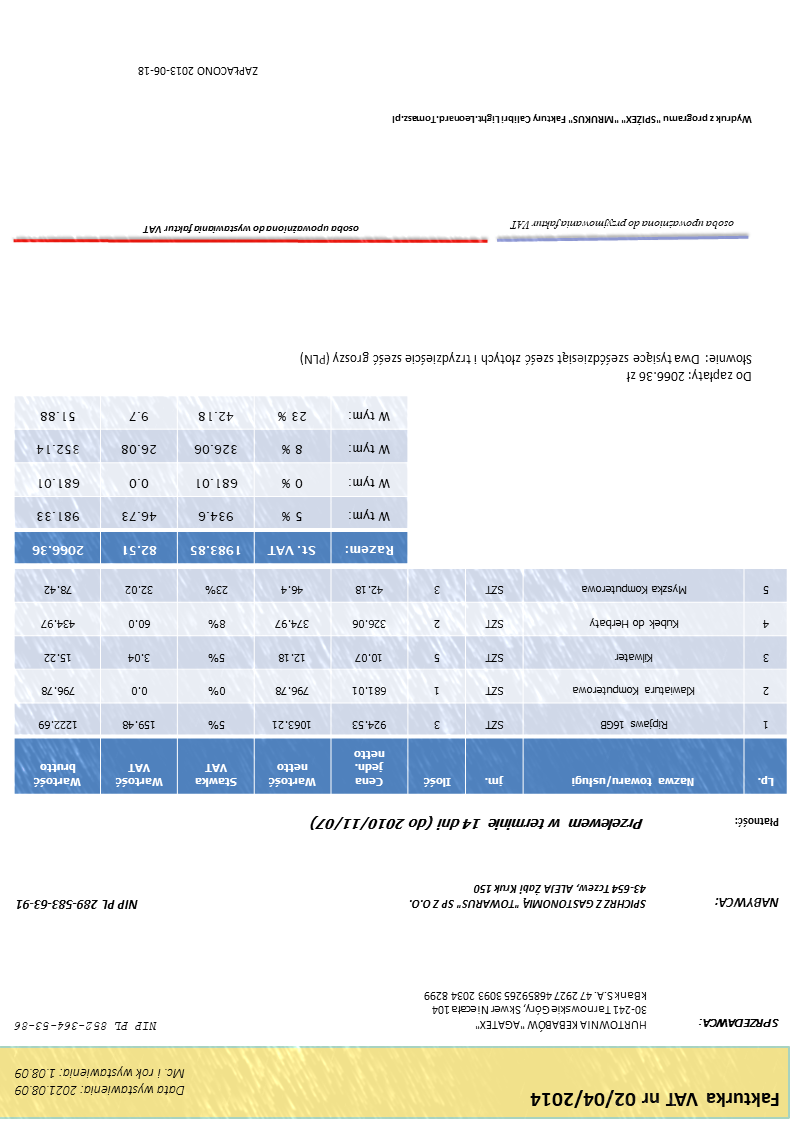Table: (14, 568, 789, 796), (14, 395, 409, 566)
TextBox: (299, 349, 755, 385), (422, 990, 650, 1033), (408, 882, 649, 913), (308, 813, 647, 833), (11, 1065, 187, 1099), (528, 1088, 782, 1110), (389, 112, 754, 127), (142, 221, 360, 237), (508, 217, 737, 232), (12, 1018, 161, 1035), (13, 897, 140, 912), (134, 65, 261, 79), (698, 1017, 781, 1032), (712, 895, 783, 912), (733, 816, 783, 830)
